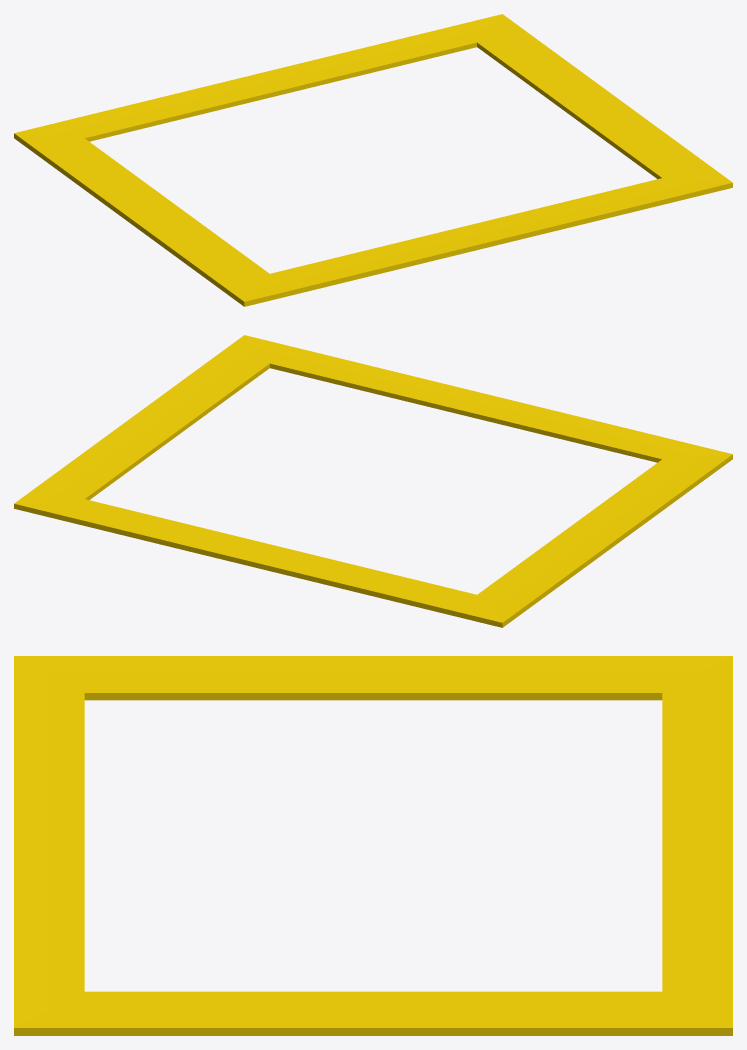
The model's file is -bant-altna_isaret.fbx.
3 renders of one model, top to bottom at view 1: azimuth 30°, elevation 25°; view 2: azimuth 150°, elevation 25°; view 3: azimuth 270°, elevation 25°, orthographic. The views are drawn at different scales.
Visible parts, largest first — view 1: Plane; view 2: Plane; view 3: Plane.
Part boxes in pixels (bbox=[...]): Plane: bbox=[14, 14, 732, 306]; Plane: bbox=[14, 335, 732, 627]; Plane: bbox=[14, 656, 732, 1035].
Size of the model in its own units: 255 by 2.52 by 209.
